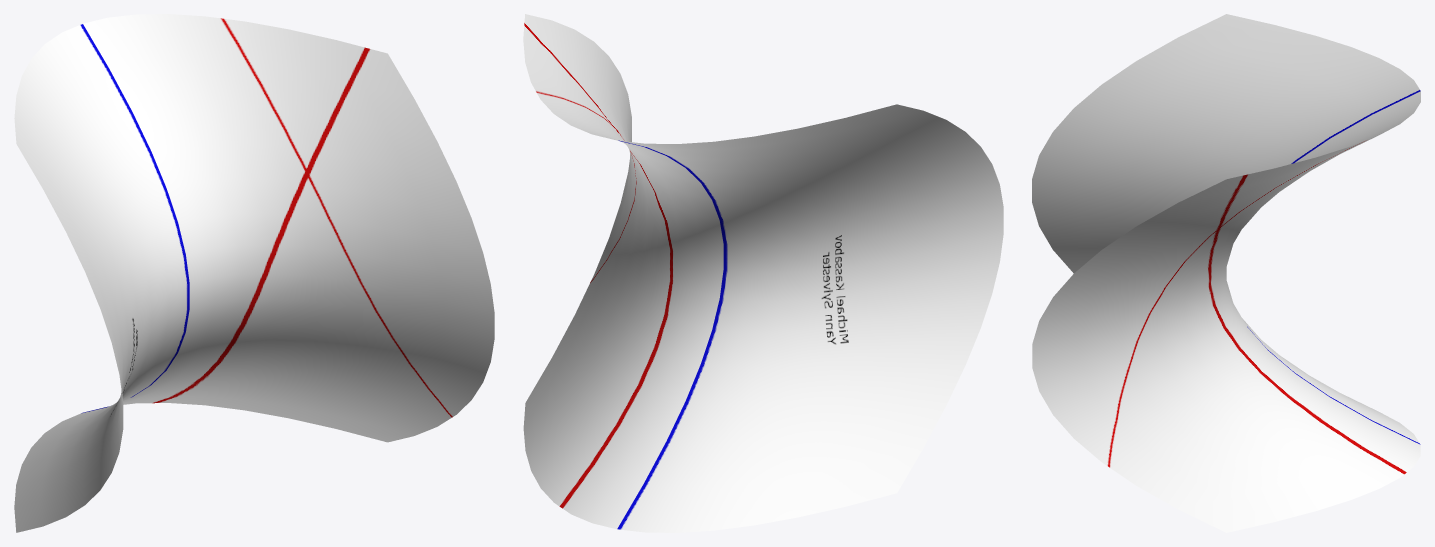
Rendered from Hyperbolic.obj.
3 views of the same model, side by side, from view 1: azimuth 30°, elevation 25°; view 2: azimuth 150°, elevation 25°; view 3: azimuth 270°, elevation 25° (orthographic). The views are drawn at different scales.
Visible parts, largest first — view 1: Z_Function; view 2: Z_Function; view 3: Z_Function.
Boxes of the visible parts, bbox=[...] form: Z_Function: bbox=[14, 14, 494, 532]; Z_Function: bbox=[523, 14, 1003, 532]; Z_Function: bbox=[1032, 14, 1420, 532].
Bounding box in the file's own units: 2 × 2 × 1.99.
1 material, 1 textured.
